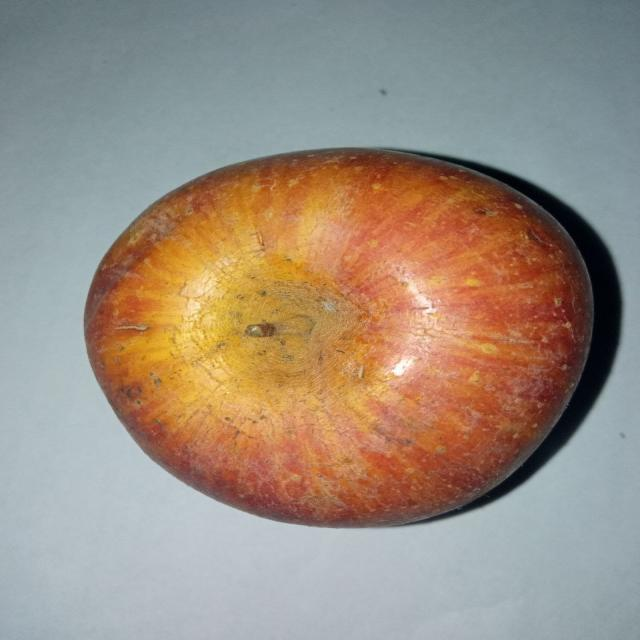fresh_apple: (85, 149, 589, 527)
